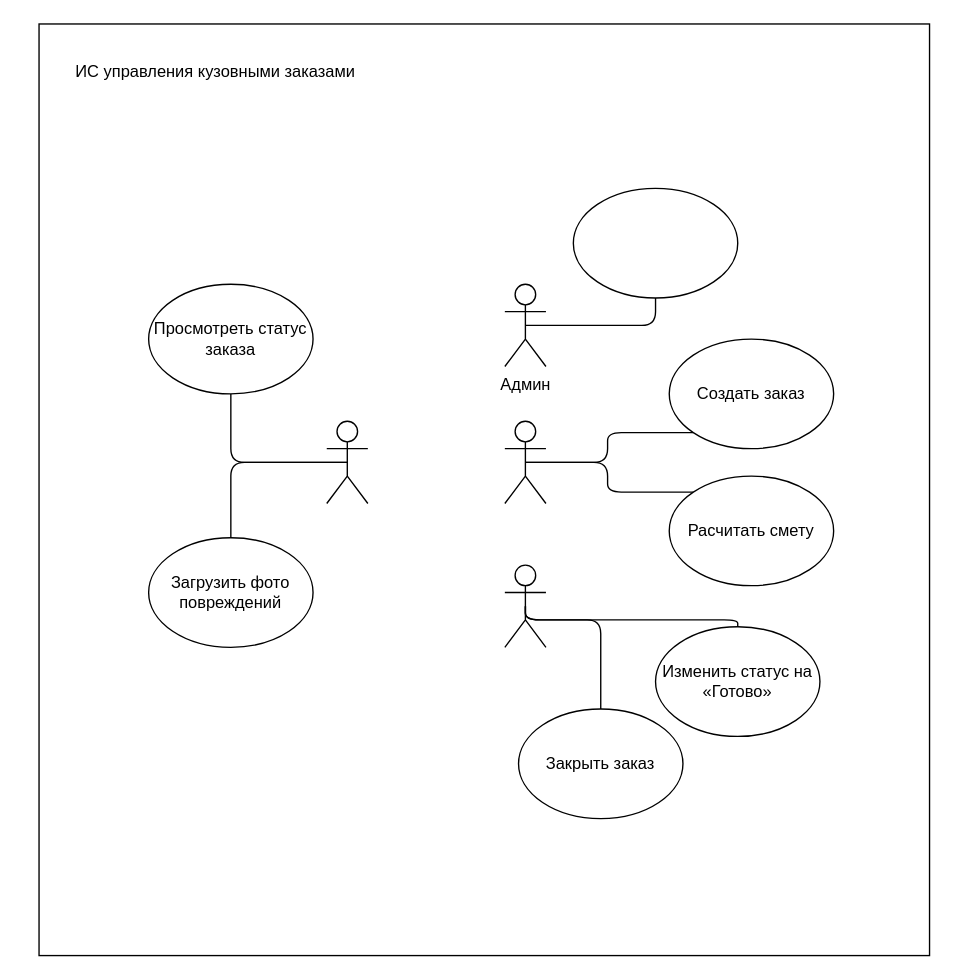
This 954x980 diagram has some shape labels left out. Here are the shapes that lost their labels. From the top down, the centre of each, then its label:
the point at 655,242: Управлять справочником услуг
the point at 346,461: Клиент
the point at 524,461: Менеджер
the point at 524,605: Мастер
